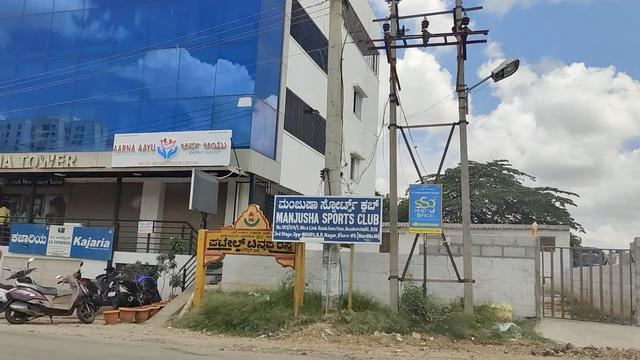RoadDamages: (166, 343, 218, 360)
